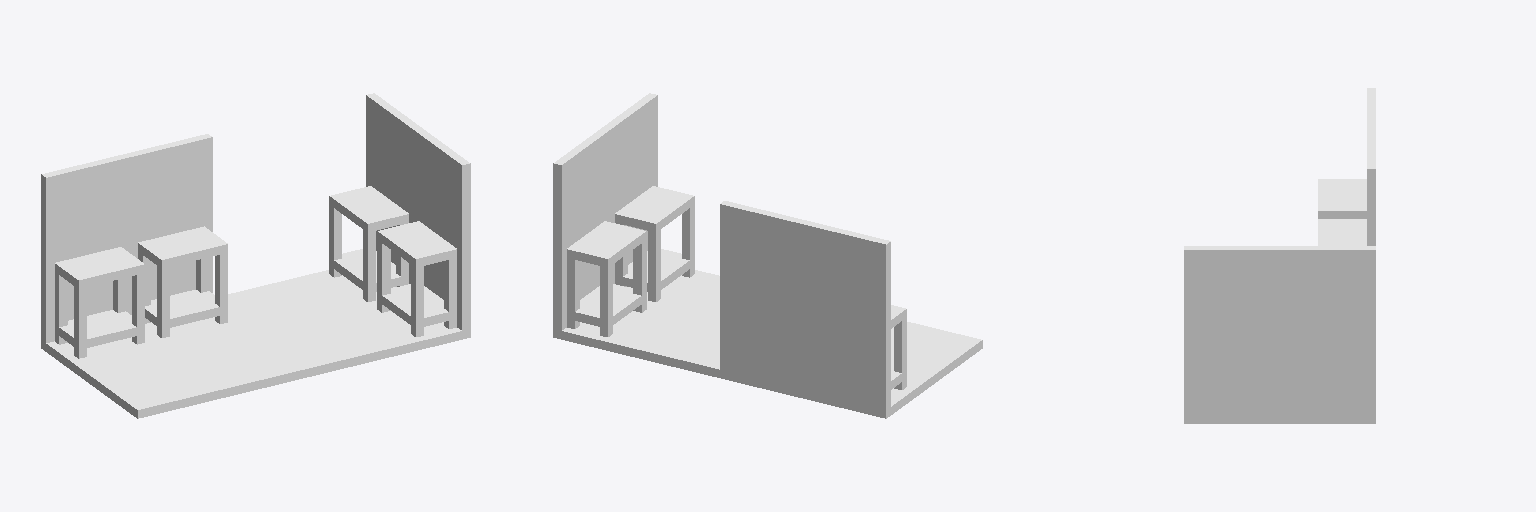
File: level_three-2.obj
3 views of the same model, side by side, from view 1: azimuth 30°, elevation 25°; view 2: azimuth 150°, elevation 25°; view 3: azimuth 270°, elevation 25° (orthographic).
Visible parts, largest first — view 1: level_three-2; view 2: level_three-2; view 3: level_three-2.
Part boxes in pixels (x1,y1,x2,y2): level_three-2: (41,93,470,418); level_three-2: (553,93,982,418); level_three-2: (1184,88,1375,423).
Size of the model in its own units: 40 by 20 by 20.